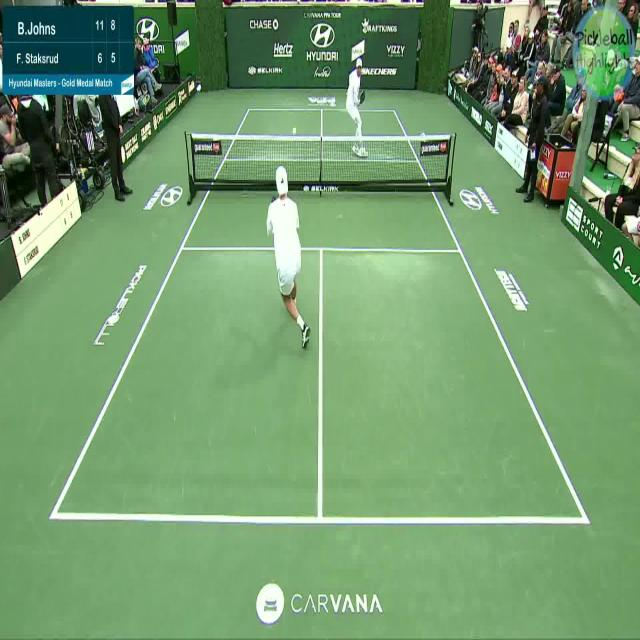Court: (51, 110, 589, 523)
ball: (291, 123, 300, 137)
